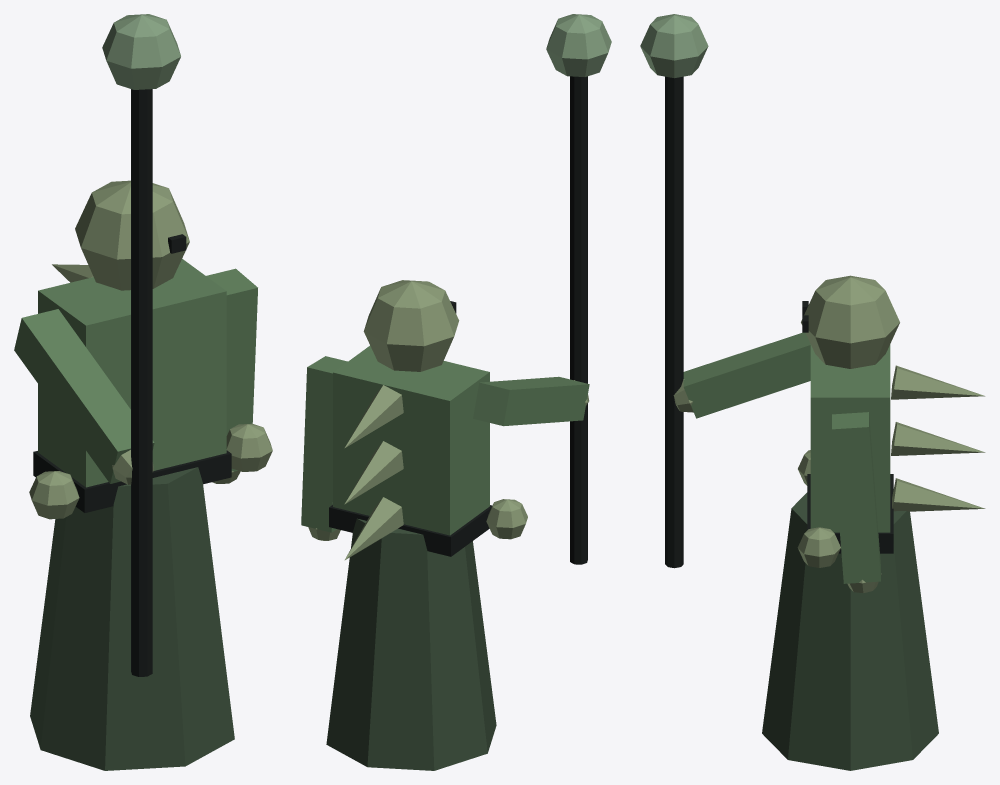
Rendered from SM_Champion_9022_Grave.glb.
3 views of the same model, side by side, from view 1: azimuth 30°, elevation 25°; view 2: azimuth 150°, elevation 25°; view 3: azimuth 270°, elevation 25° (orthographic). The views are drawn at different scales.
Visible parts, largest first — view 1: SM_Champion_9022_Grave; view 2: SM_Champion_9022_Grave; view 3: SM_Champion_9022_Grave.
Boxes of the visible parts, left/top/right/bottom form: SM_Champion_9022_Grave: left=14, top=14, right=272, bottom=770; SM_Champion_9022_Grave: left=301, top=14, right=611, bottom=770; SM_Champion_9022_Grave: left=640, top=14, right=985, bottom=770.
Bounding box in the file's own units: 0.7544 × 2.34 × 1.08.
